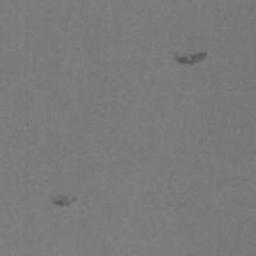Inclusion: (174, 52, 207, 65), (50, 196, 77, 207)
